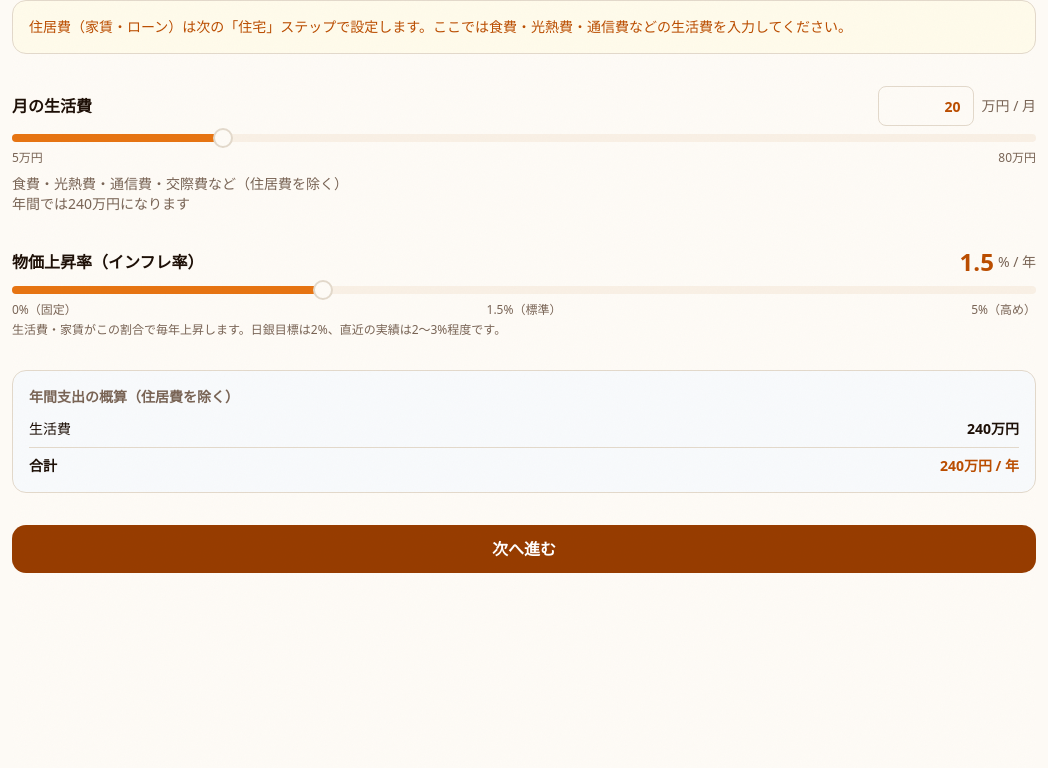
it: lenient numeric input (SHIG 50, 46, 55) › an emptied field does not become 0 and shows the kept value again on blur
This screenshot has width=1048, height=768.
Clear the field named "月の生活費" at (926, 106), box top-left (878, 86), bottom-right (974, 126)
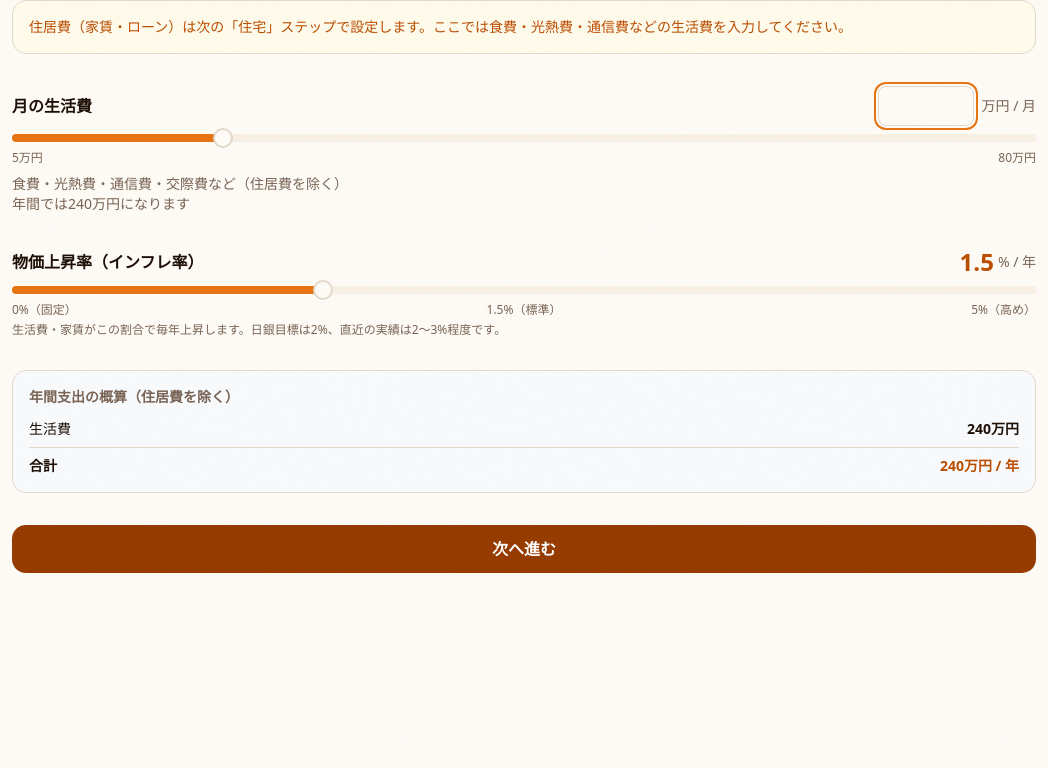
Leave the field named "月の生活費", box top-left (878, 86), bottom-right (974, 126)
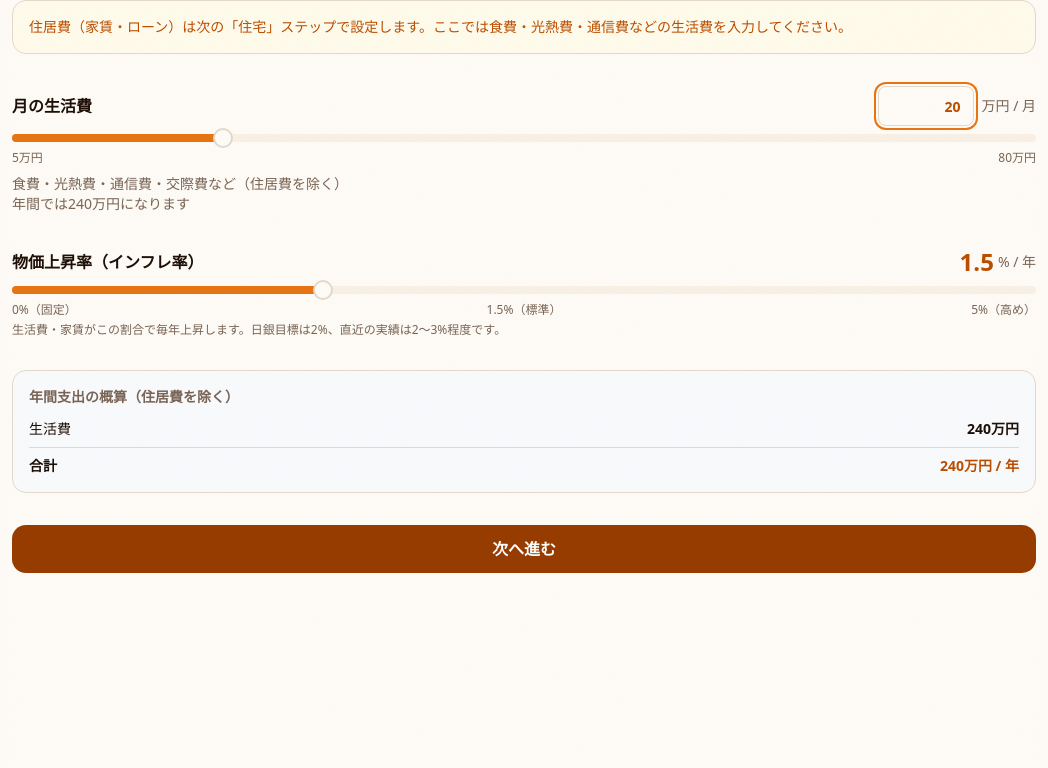
Expected: the field named "月の生活費" holds "20", top-left (878, 86), bottom-right (974, 126)
